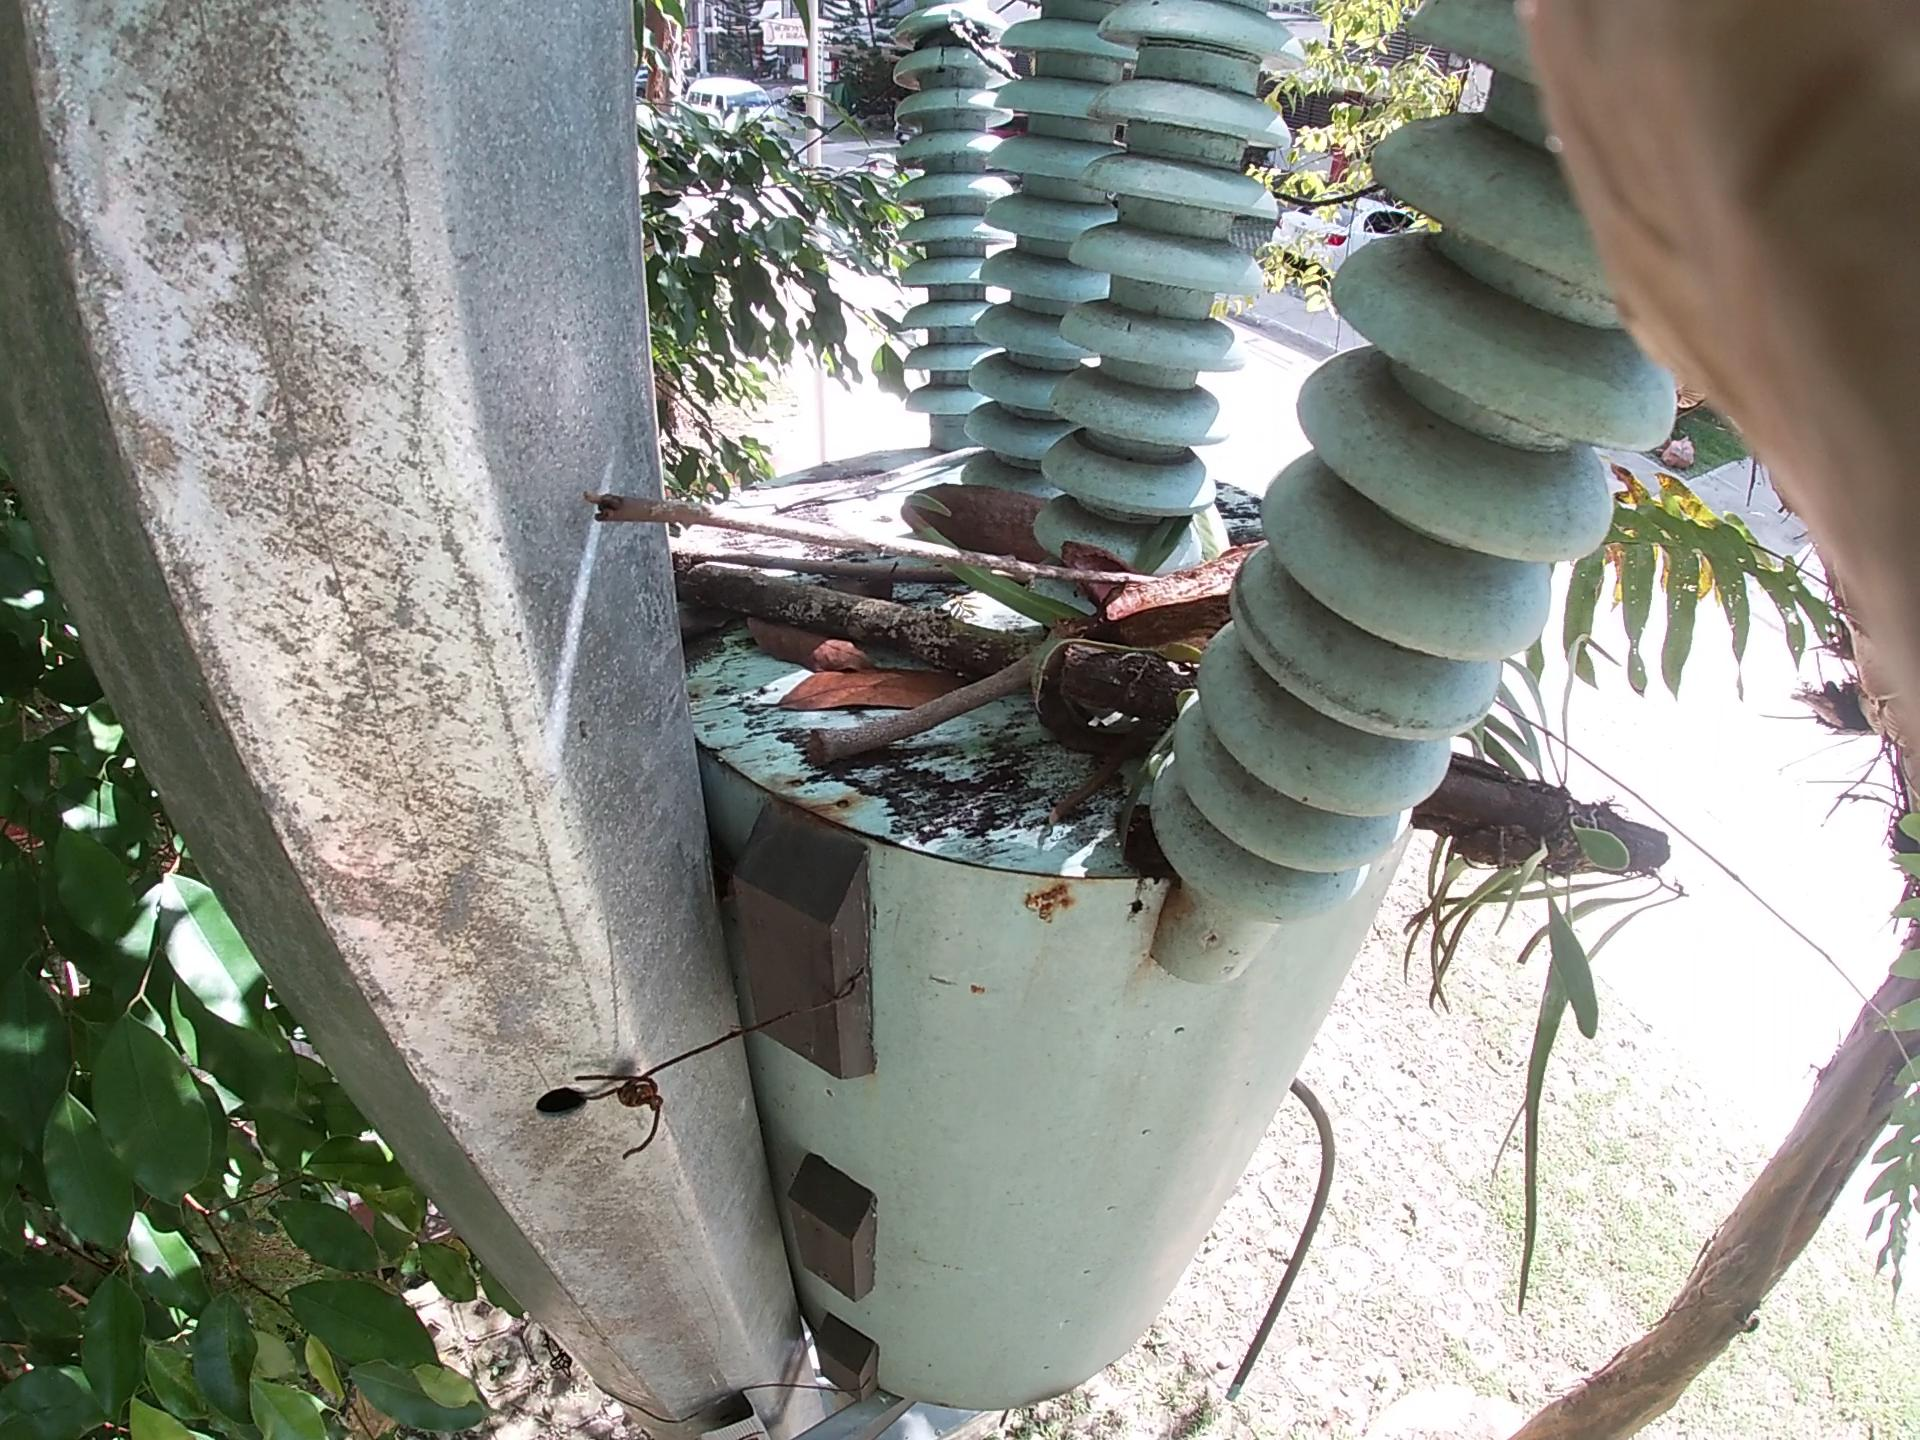branch with leaves: (679, 523, 1672, 926)
leaf: (741, 610, 972, 750)
mahogany fruit: (1085, 560, 1303, 687), (909, 452, 1099, 573)
tree branch: (578, 469, 1268, 644), (714, 585, 1138, 817)
